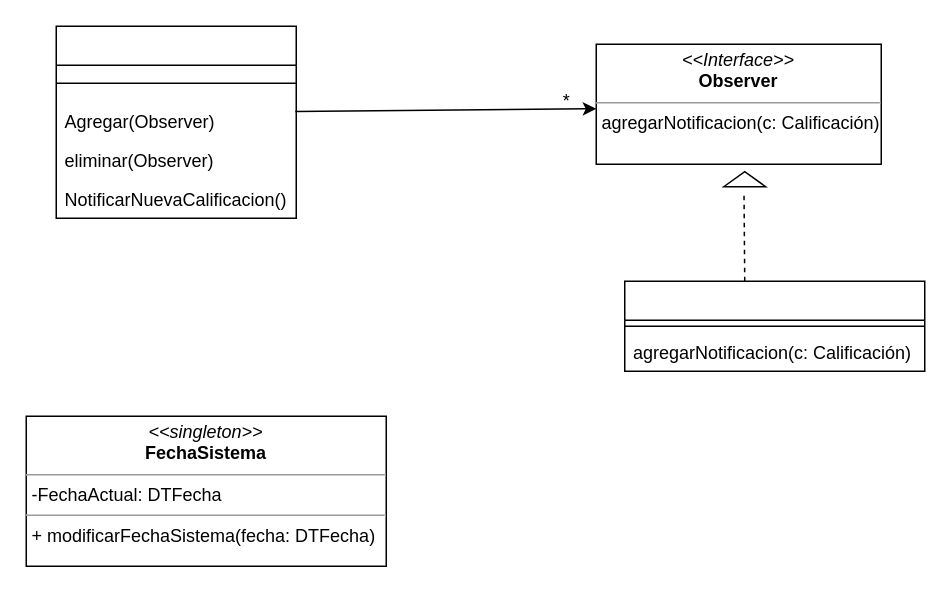
Some shapes in this 951 by 593 pixel diagram are drawn without their labels. Here are the shapes that lost their labels. From the top down, the box of each, then its label:
(55, 25, 296, 218): ControladorEstadía
(623, 280, 925, 371): Empleado
